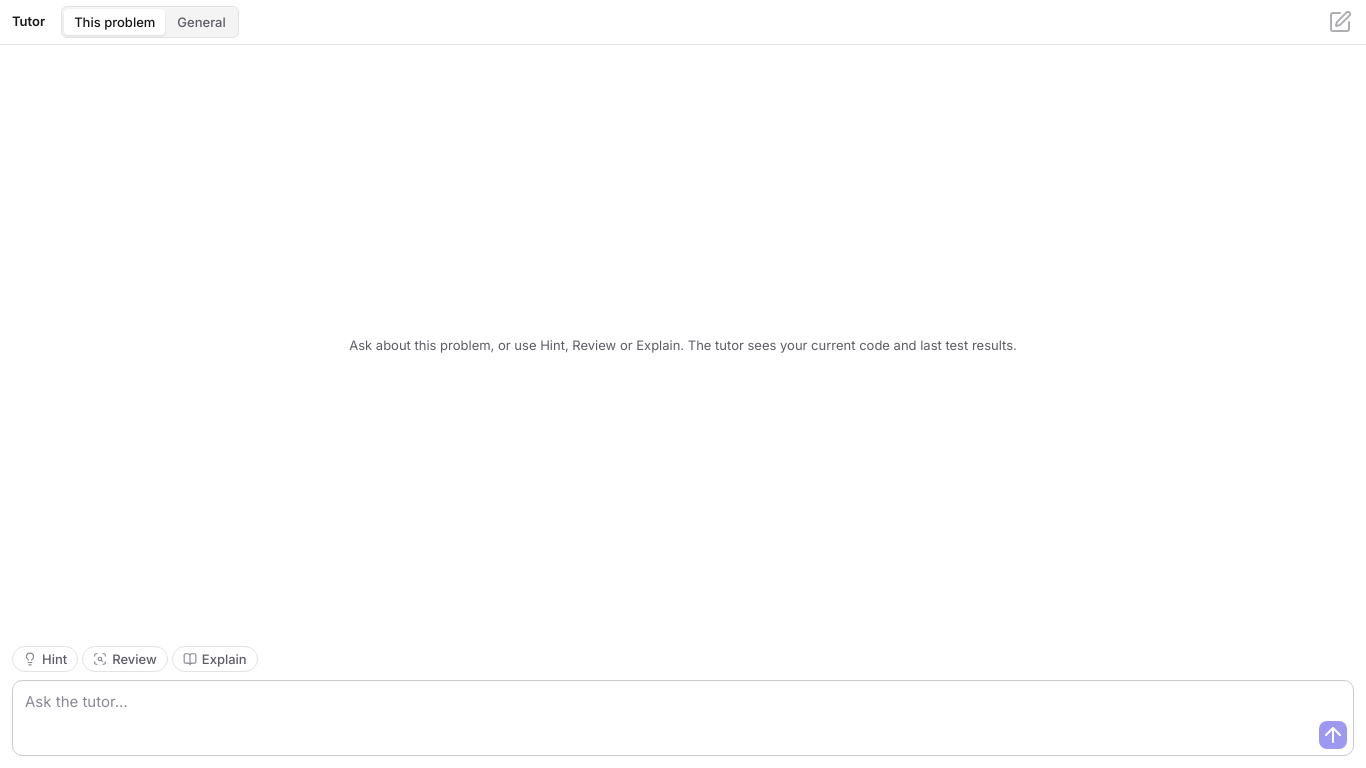
it: ChatPane controls and states › a refused message shows a notice and keeps the draft
Step 1. Type "two" into the text box named "Message the tutor" → (683, 701), box [13,681,1353,721]
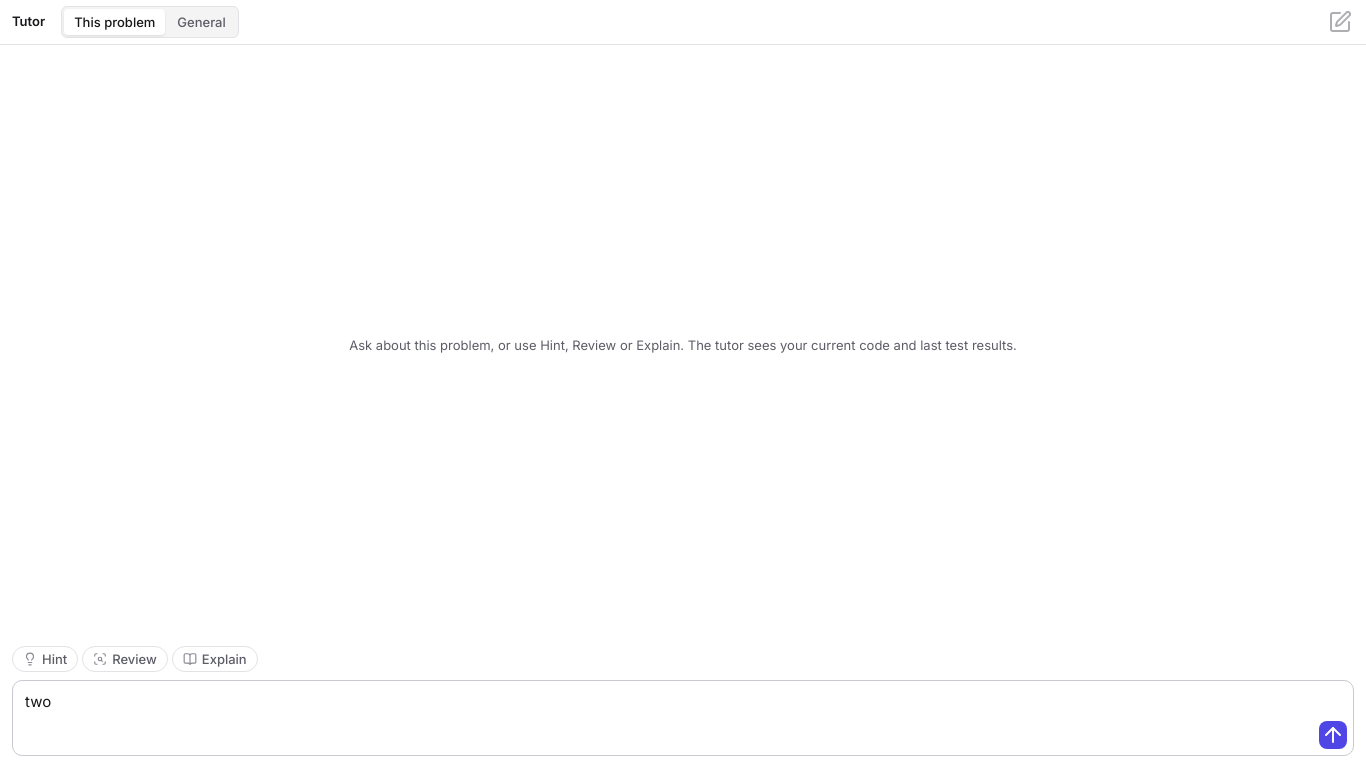
Step 2. Press Enter in the text box named "Message the tutor", box [13,681,1353,721]
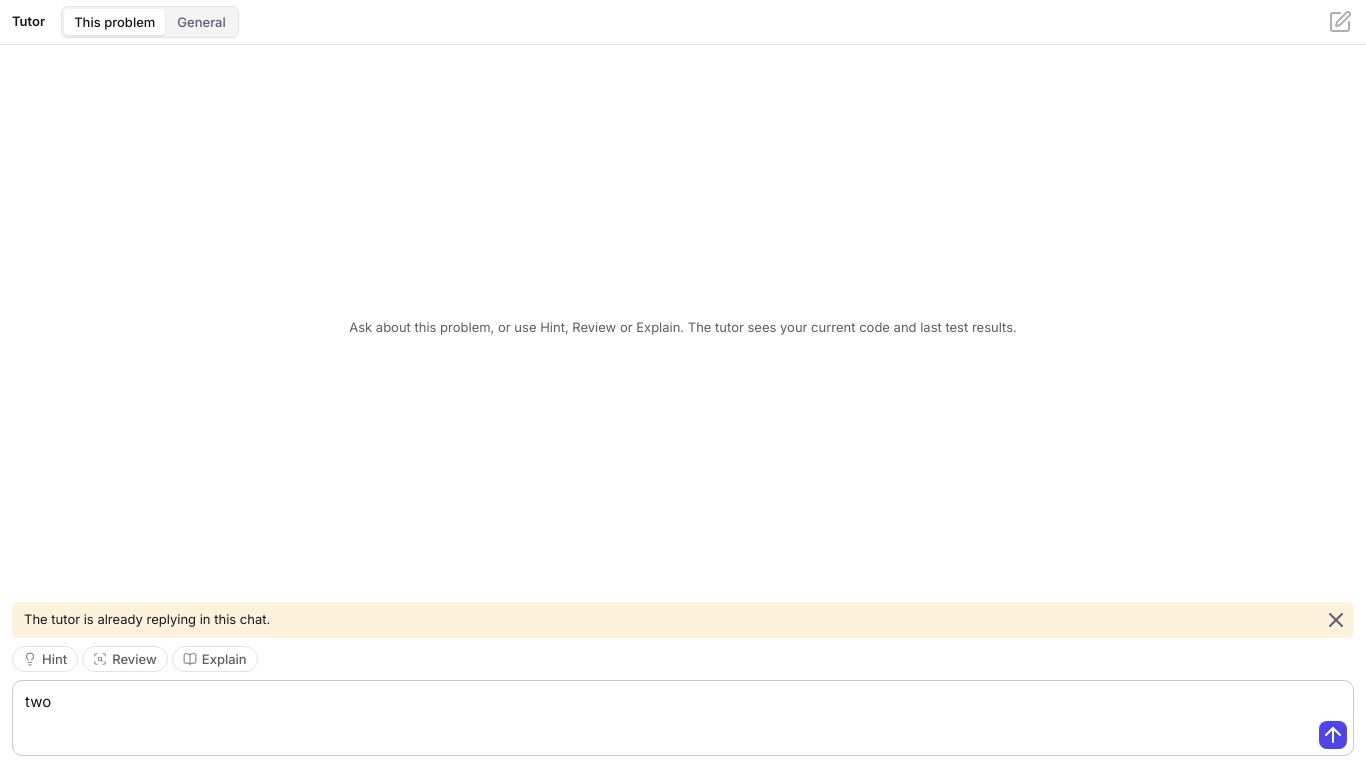
Now the message with test id "chat-notice" shows "already replying", box [24,611,270,627]
